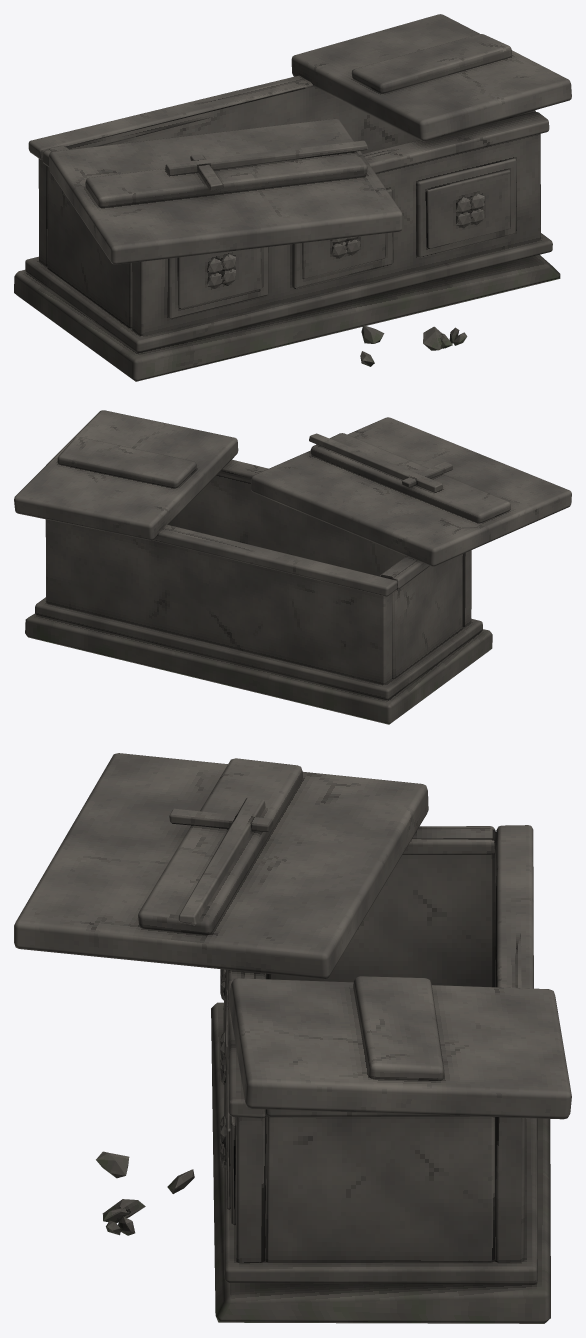
File: tomb.glb
3 views of the same model, one above another, from view 1: azimuth 30°, elevation 25°; view 2: azimuth 150°, elevation 25°; view 3: azimuth 270°, elevation 25° (orthographic). The views are drawn at different scales.
Parts seen in each view (by area): view 1: Tomb, TombLid; view 2: Tomb, TombLid; view 3: TombLid, Tomb.
Boxes of the visible parts, box(x1,y1,x2,y2) form: Tomb: box(14, 75, 560, 381); TombLid: box(49, 14, 571, 264); Tomb: box(25, 459, 492, 724); TombLid: box(14, 410, 571, 566); TombLid: box(14, 753, 571, 1119); Tomb: box(96, 825, 550, 1323).
Size of the model in its own units: 2.54 by 0.9609 by 1.75.
1 material, 1 textured.
